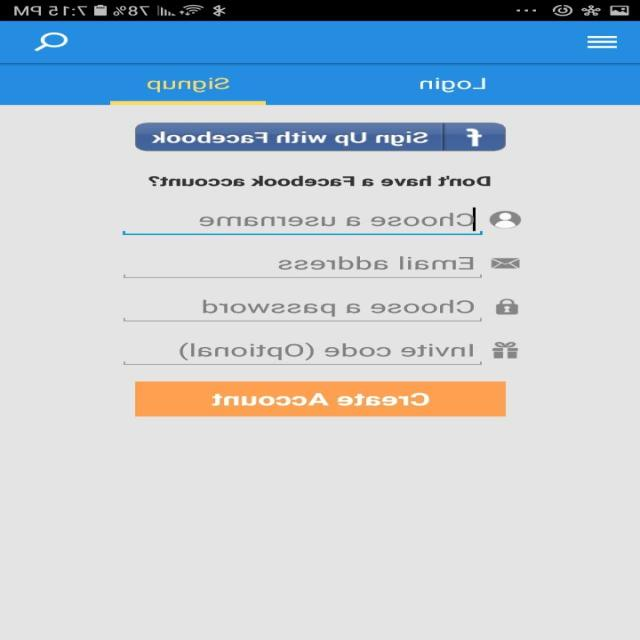EditText: (122, 205, 484, 235), (124, 342, 482, 365), (124, 256, 482, 278), (124, 299, 482, 321)
Icon: (34, 32, 70, 51), (489, 210, 522, 228), (492, 341, 520, 359), (496, 298, 519, 315), (587, 36, 617, 49), (490, 256, 520, 268)
Text: (180, 342, 474, 360), (202, 299, 473, 317), (148, 175, 492, 187), (200, 212, 474, 226), (278, 256, 474, 270), (148, 77, 232, 92), (419, 77, 486, 93)
TextButton: (136, 381, 507, 416), (135, 122, 506, 151)
